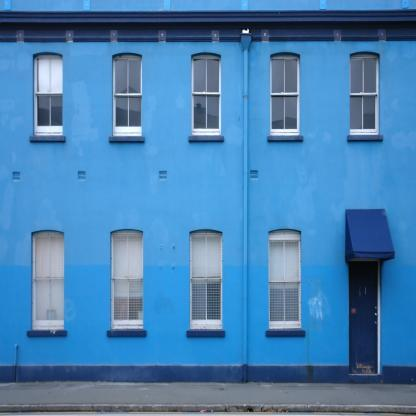Building Outline: (0, 0, 415, 382)
Door: (349, 261, 378, 375)
Facade: (0, 0, 415, 382)
Floor: (0, 41, 416, 183)
Floor Slab: (0, 183, 416, 191)
Ground Floor: (0, 191, 416, 382)
Molding: (0, 12, 416, 42)
Roof: (345, 209, 394, 263)
Sill: (266, 330, 306, 337), (27, 330, 67, 337), (107, 330, 147, 337), (186, 330, 225, 337), (347, 136, 383, 142), (109, 136, 145, 142), (268, 136, 304, 142), (30, 136, 66, 142), (189, 136, 224, 142)
Window: (35, 236, 64, 320), (192, 236, 221, 320), (114, 236, 143, 320), (270, 240, 299, 322), (114, 59, 141, 127), (351, 59, 377, 129), (194, 59, 220, 129), (272, 59, 298, 129), (37, 59, 63, 126)
